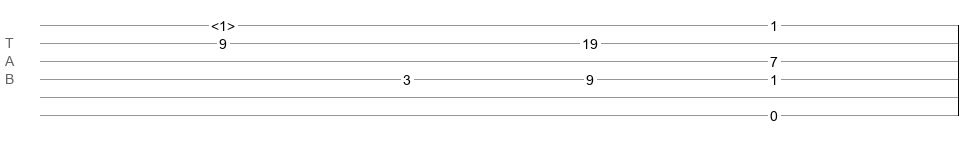0: (770, 108, 778, 118)
1: (770, 72, 778, 82), (770, 18, 778, 28)
19: (582, 36, 598, 46)
3: (403, 72, 411, 82)
7: (770, 54, 778, 64)
9: (219, 36, 227, 46), (586, 72, 594, 82)
harmonic: (211, 18, 235, 28)
